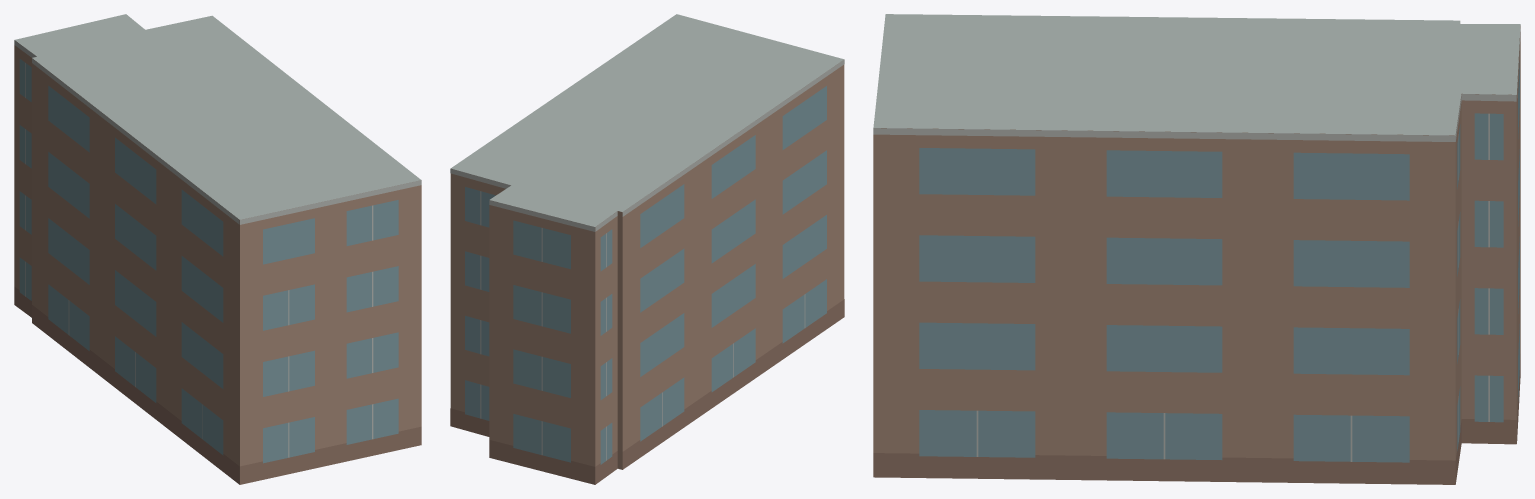
The model's file is survey-upis-32659753.glb.
3 views of the same model, side by side, from view 1: azimuth 30°, elevation 25°; view 2: azimuth 150°, elevation 25°; view 3: azimuth 270°, elevation 25° (orthographic). The views are drawn at different scales.
Visible parts, largest first — view 1: survey-upis-32659753.tmp; view 2: survey-upis-32659753.tmp; view 3: survey-upis-32659753.tmp.
Boxes of the visible parts, bbox=[...] form: survey-upis-32659753.tmp: bbox=[14, 14, 421, 484]; survey-upis-32659753.tmp: bbox=[450, 14, 844, 484]; survey-upis-32659753.tmp: bbox=[873, 14, 1520, 484].
Size of the model in its own units: 9.55 by 12.8 by 21.5.
